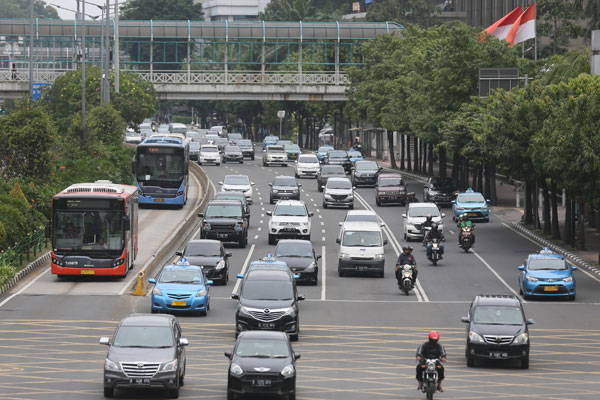car: (52, 178, 138, 281), (104, 309, 183, 399), (464, 294, 535, 372), (232, 270, 304, 345), (228, 328, 295, 400), (134, 133, 190, 210), (519, 246, 578, 303), (152, 263, 212, 317), (238, 253, 298, 304), (337, 222, 388, 280), (199, 200, 251, 251), (176, 238, 230, 286), (266, 199, 313, 248), (273, 238, 319, 285), (403, 202, 446, 243), (345, 210, 387, 248), (450, 188, 492, 223), (214, 191, 251, 226), (424, 176, 460, 210), (322, 177, 356, 211), (375, 173, 408, 207), (220, 173, 251, 206), (269, 174, 302, 203), (317, 165, 349, 194), (351, 160, 381, 189), (324, 149, 352, 175), (295, 155, 321, 179), (262, 145, 288, 168), (199, 144, 221, 167), (222, 144, 244, 165), (235, 139, 255, 161), (317, 144, 334, 163), (349, 149, 365, 168), (285, 144, 301, 161), (263, 135, 279, 146)
motorbike: (415, 329, 446, 400), (397, 246, 419, 298), (425, 225, 445, 266), (458, 214, 475, 255), (425, 216, 435, 248), (151, 121, 157, 135)
